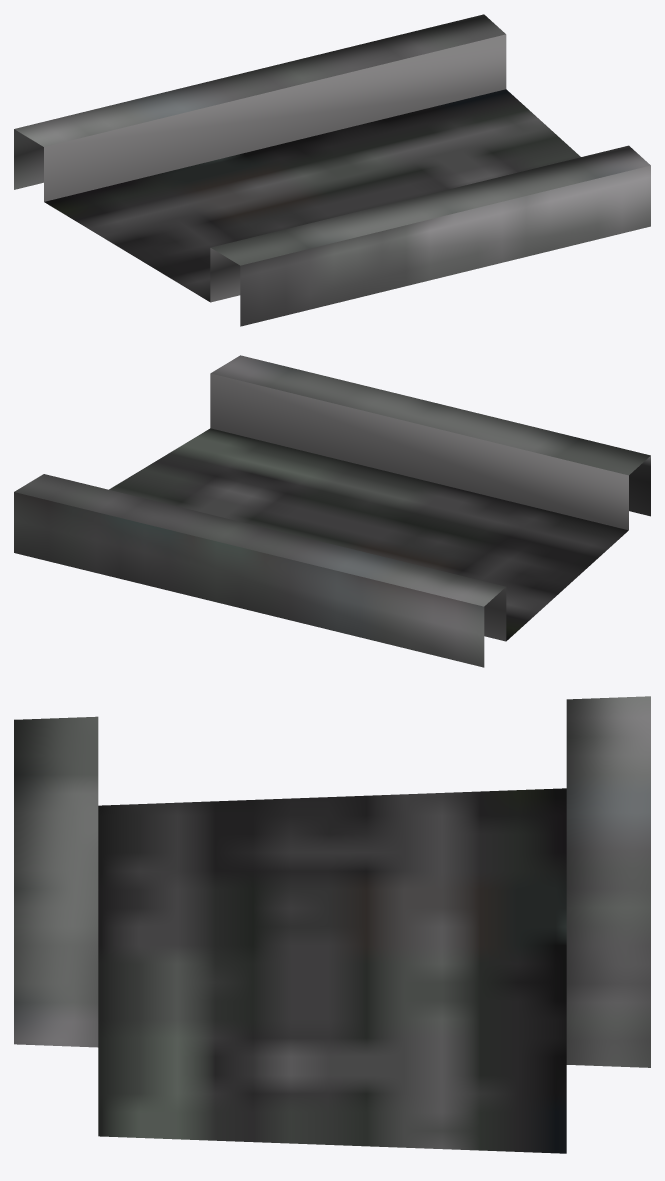
File: Shared - Armor - Tanker Truck - Damage State 32 - CVTanker_d32.glb
3 views of the same model, one above another, from view 1: azimuth 30°, elevation 25°; view 2: azimuth 150°, elevation 25°; view 3: azimuth 270°, elevation 25° (orthographic). The views are drawn at different scales.
Visible parts, largest first — view 1: CVTANKER_D32; view 2: CVTANKER_D32; view 3: CVTANKER_D32.
Boxes of the visible parts, <box> form: CVTANKER_D32: <box>14,14,650,326</box>; CVTANKER_D32: <box>14,355,650,667</box>; CVTANKER_D32: <box>14,696,650,1153</box>.
Size of the model in its own units: 7.25 by 0.8981 by 5.25.
1 material, 1 textured.
